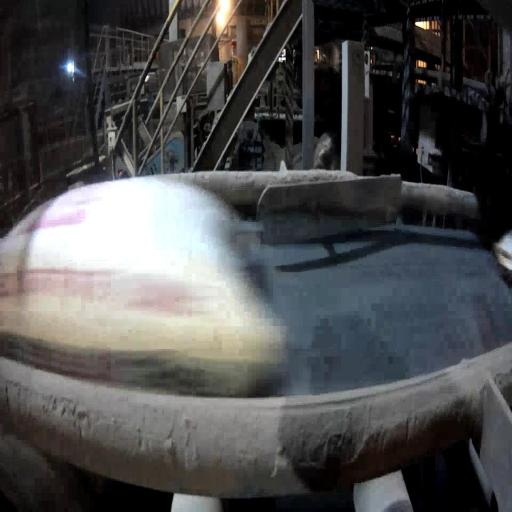c-belt-sack-count: (0, 176, 287, 397)
